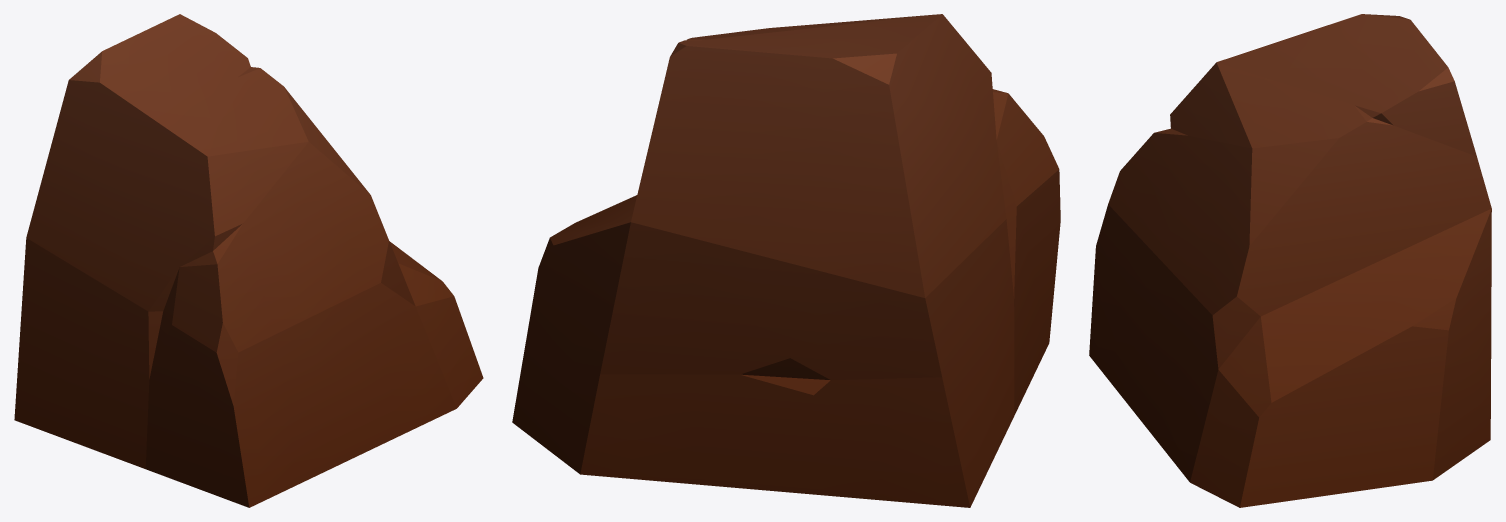
File: small_rock10.fbx
3 renders of one model, left to right at view 1: azimuth 30°, elevation 25°; view 2: azimuth 150°, elevation 25°; view 3: azimuth 270°, elevation 25°, orthographic. The views are drawn at different scales.
Visible parts, largest first — view 1: RG1; view 2: RG1; view 3: RG1.
Boxes of the visible parts, left/top/right/bottom form: RG1: left=14, top=14, right=483, bottom=507; RG1: left=512, top=14, right=1060, bottom=507; RG1: left=1089, top=14, right=1491, bottom=507.
Size of the model in its own units: 291 by 238 by 254.
